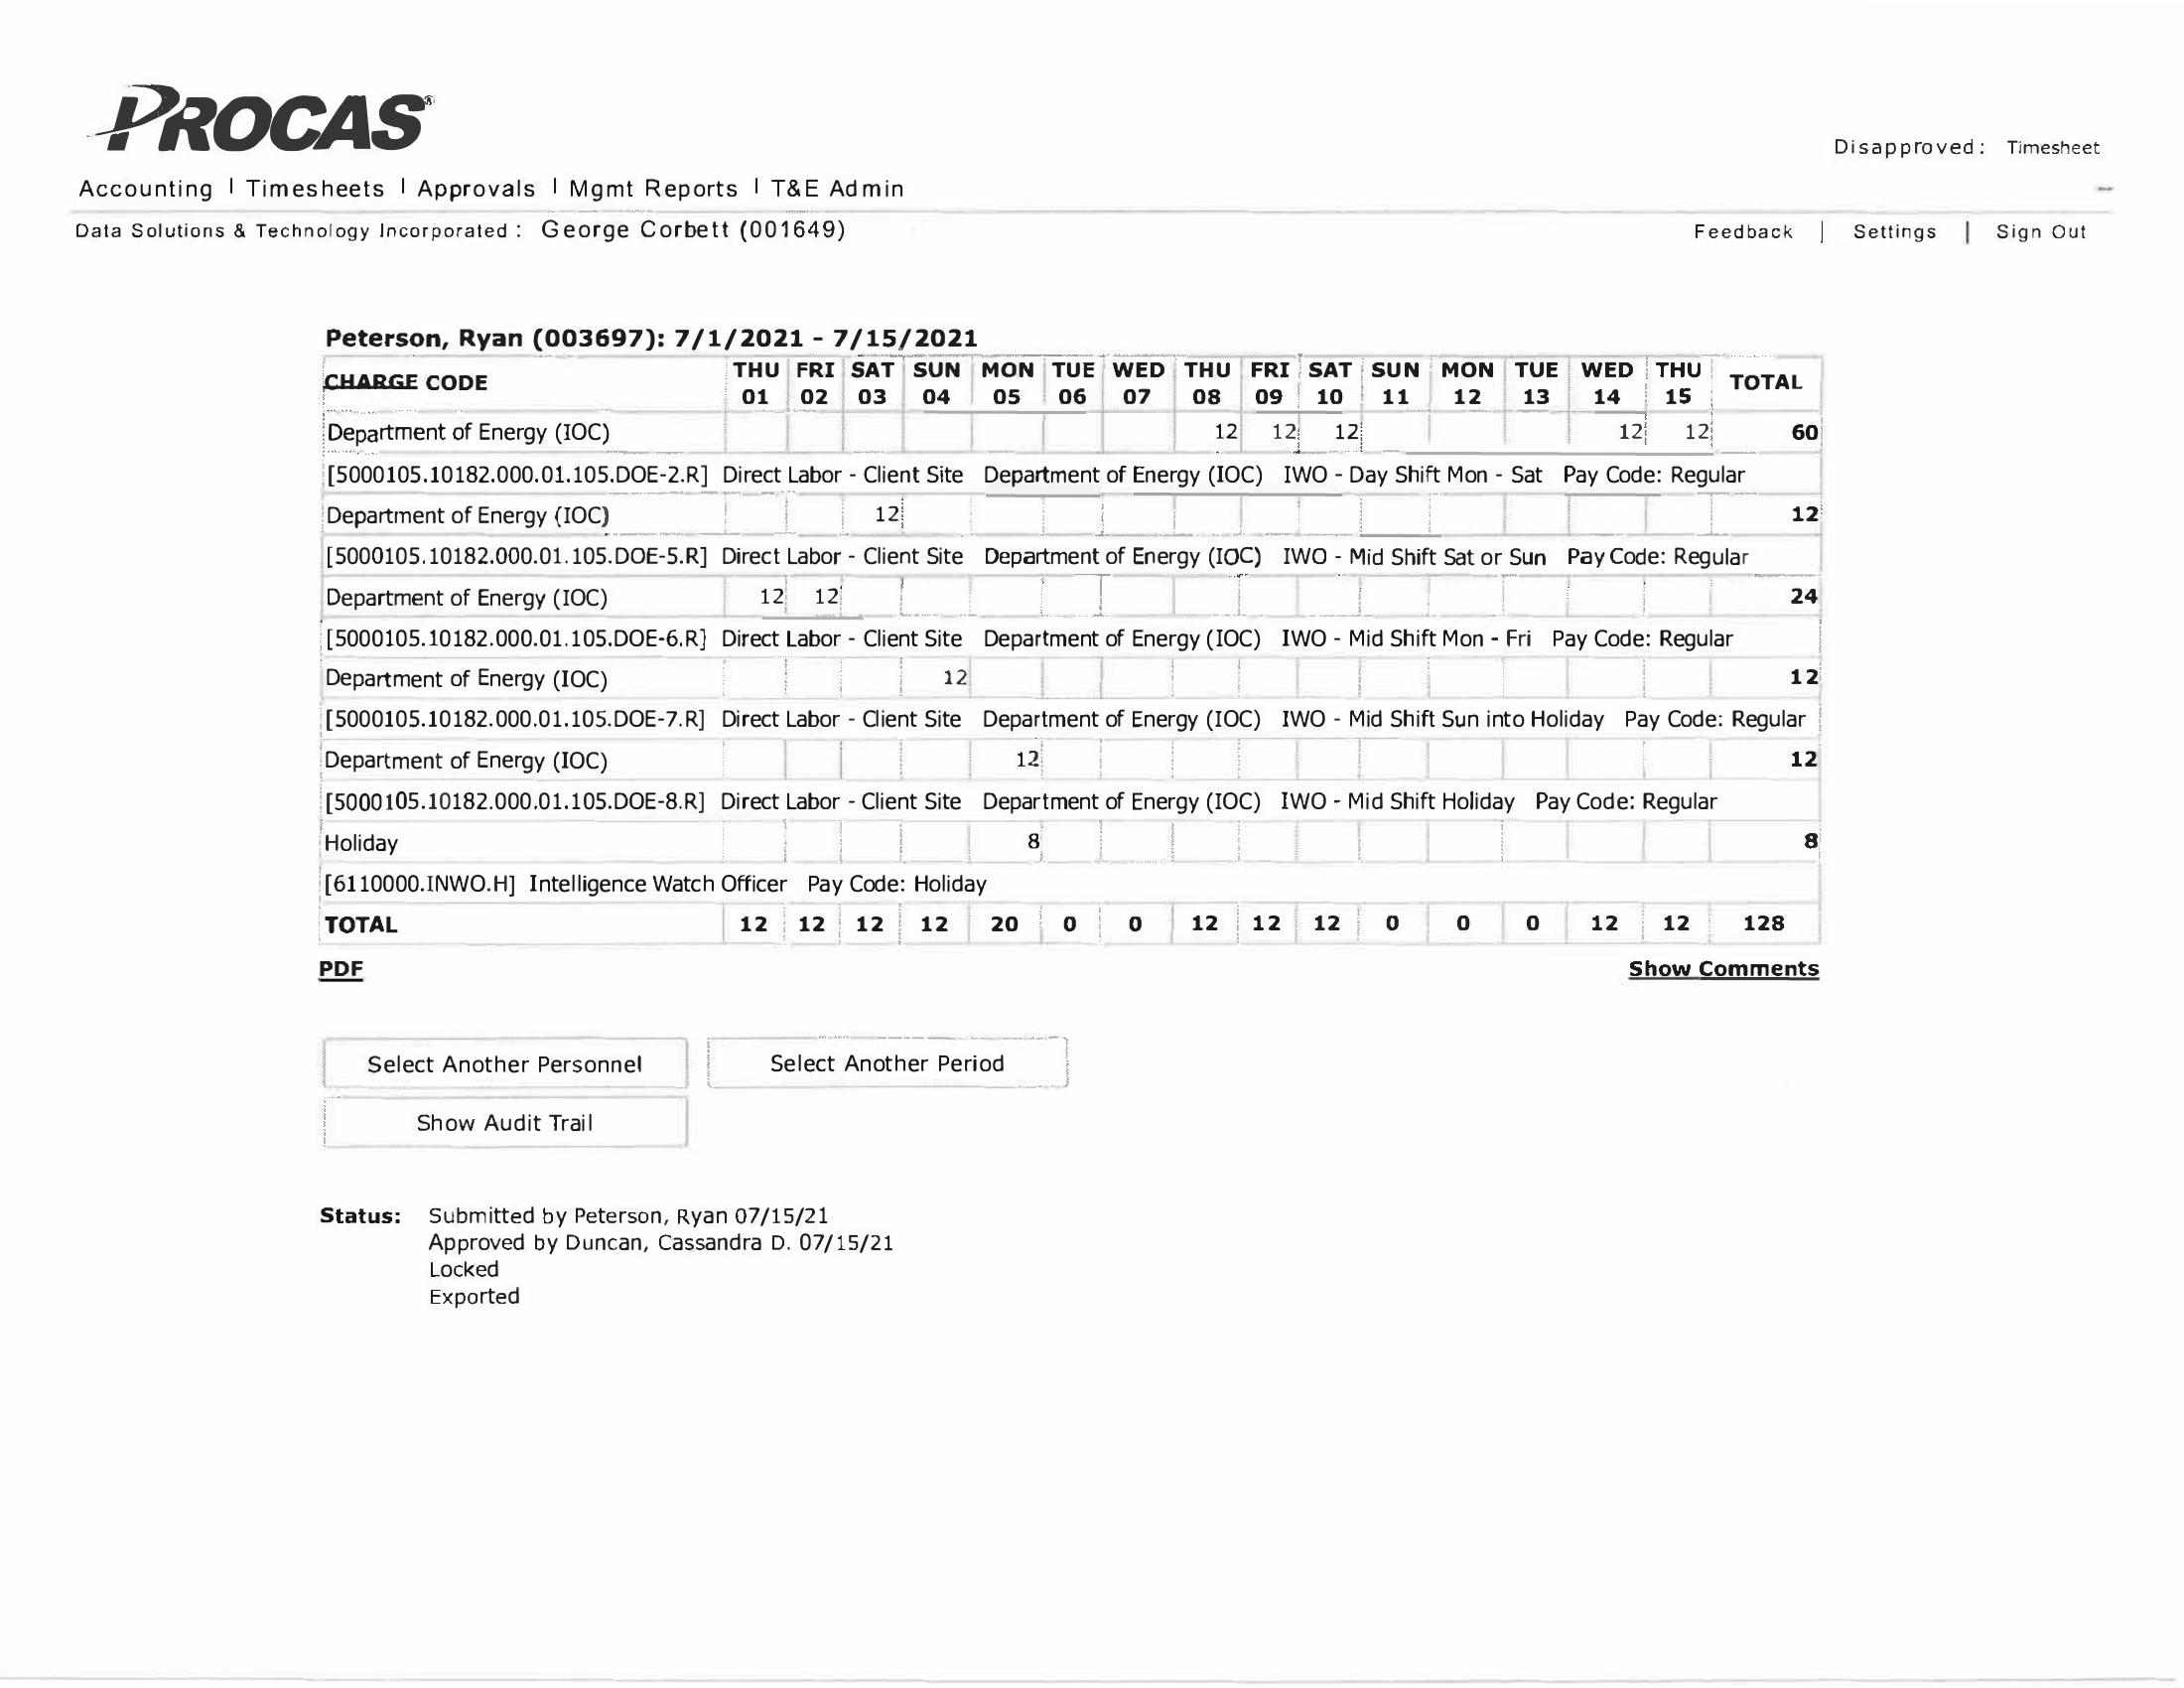table: (312, 353, 1840, 954)
